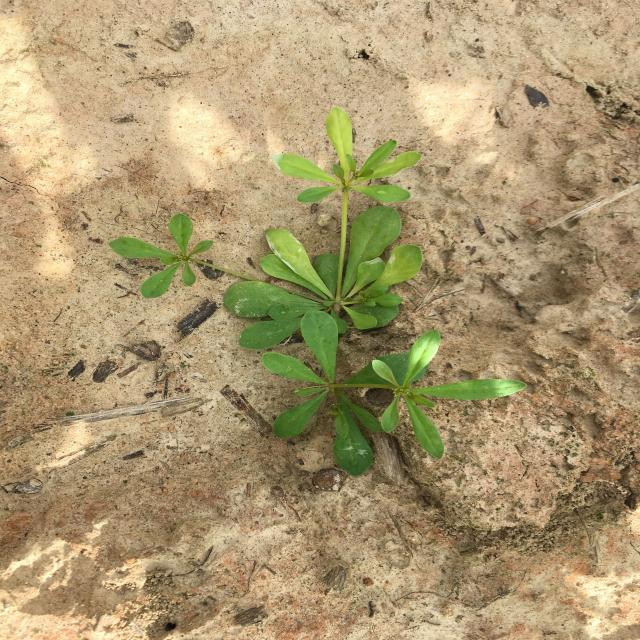Carpetweed: (108, 106, 528, 477)
